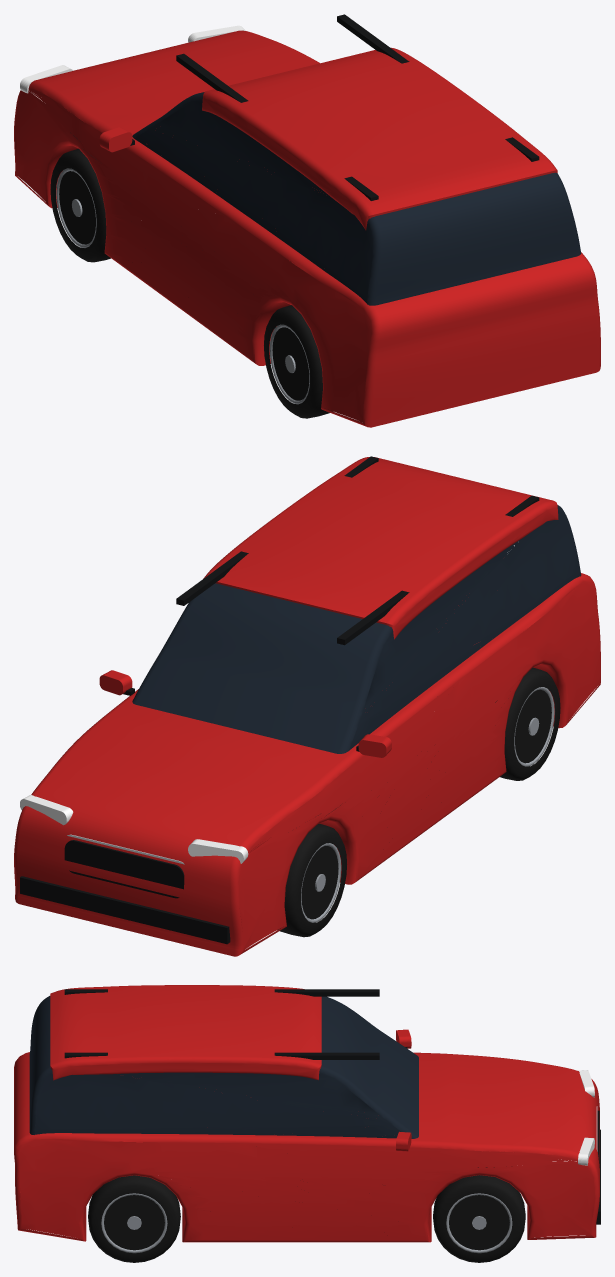
Rendered from suv.glb.
3 renders of one model, top to bottom at view 1: azimuth 30°, elevation 25°; view 2: azimuth 150°, elevation 25°; view 3: azimuth 270°, elevation 25°, orthographic. The views are drawn at different scales.
Visible parts, largest first — view 1: Body, Glass, Tire_RL, Tire_FL, Trim, Headlights, Rim_FL, Rim_RL; view 2: Body, Glass, Trim, Tire_FL, Tire_RL, Headlights; view 3: Body, Glass, Tire_FR, Tire_RR, Trim, Rim_FR, Rim_RR, Headlights.
Part boxes in pixels (bbox=[...]): Body: bbox=[14, 30, 600, 427]; Glass: bbox=[132, 92, 581, 305]; Tire_RL: bbox=[264, 305, 332, 418]; Tire_FL: bbox=[50, 148, 110, 262]; Trim: bbox=[70, 14, 539, 200]; Headlights: bbox=[20, 25, 245, 94]; Rim_FL: bbox=[56, 168, 96, 247]; Rim_RL: bbox=[269, 324, 309, 404]; Body: bbox=[14, 457, 600, 956]; Glass: bbox=[132, 505, 581, 753]; Trim: bbox=[20, 456, 539, 944]; Tire_FL: bbox=[277, 823, 346, 937]; Tire_RL: bbox=[495, 667, 560, 780]; Headlights: bbox=[20, 795, 248, 863]; Body: bbox=[14, 985, 599, 1242]; Glass: bbox=[29, 996, 418, 1138]; Tire_FR: bbox=[433, 1175, 525, 1262]; Tire_RR: bbox=[88, 1175, 180, 1262]; Trim: bbox=[64, 989, 600, 1224]; Rim_FR: bbox=[446, 1193, 512, 1253]; Rim_RR: bbox=[101, 1193, 167, 1253]; Headlights: bbox=[578, 1070, 594, 1165].
Size of the model in its own units: 2.21 by 1.79 by 4.85.
